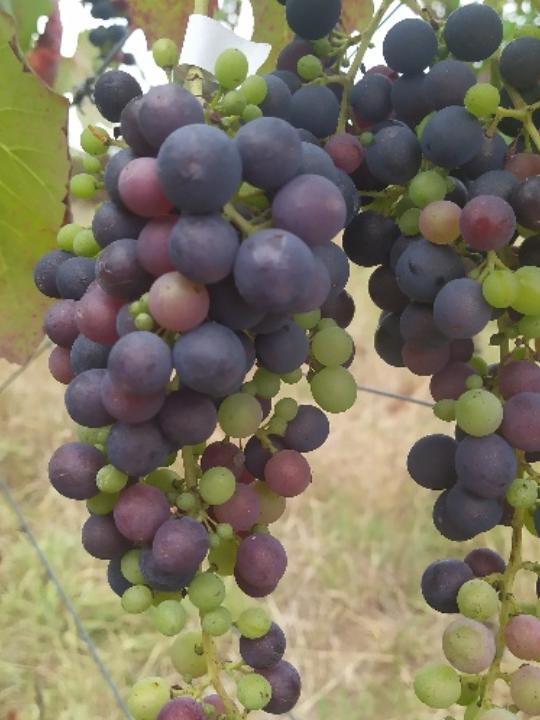grape: (30, 37, 377, 720), (269, 0, 540, 720)
